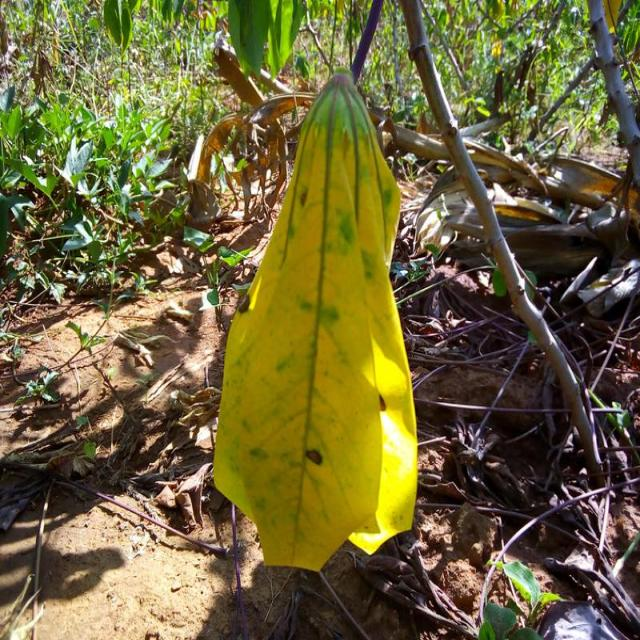cassava leaf: (212, 67, 419, 572)
